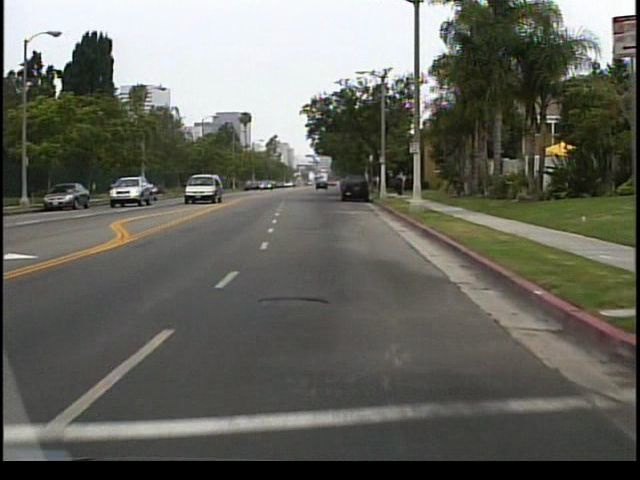person: (397, 169, 411, 198), (394, 174, 404, 197)
